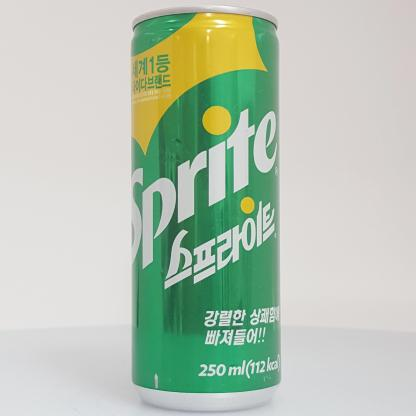alumunium_can: (120, 4, 293, 416)
